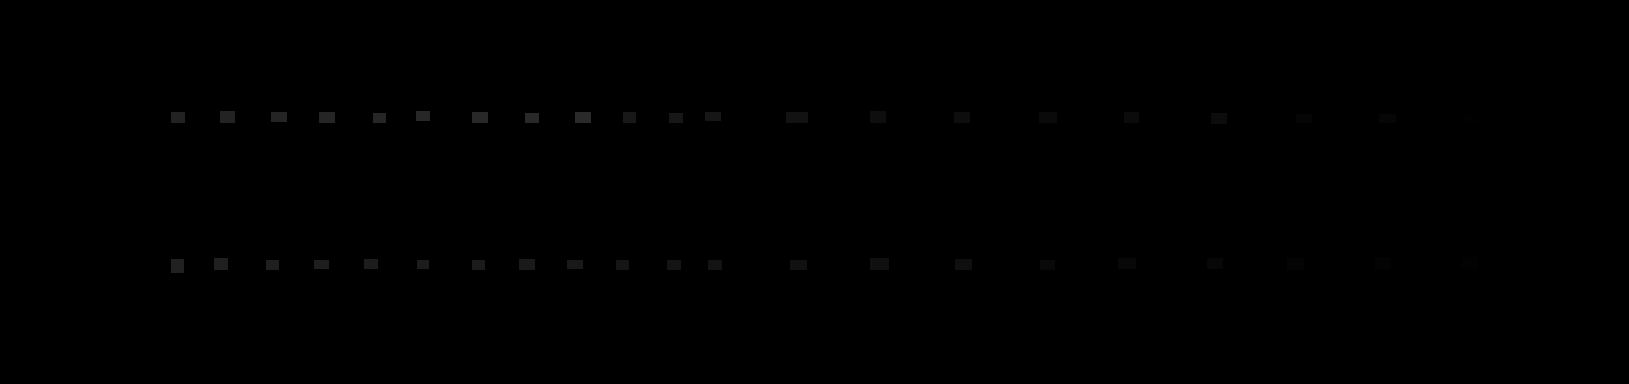light: (786, 112, 808, 124), (870, 258, 889, 270), (870, 111, 886, 124), (1461, 257, 1478, 269), (1039, 112, 1057, 124), (1287, 258, 1304, 270), (954, 112, 970, 124), (472, 112, 488, 124), (575, 112, 591, 124), (1118, 258, 1136, 269), (955, 259, 972, 270), (220, 111, 235, 124), (1376, 257, 1391, 269), (319, 112, 335, 124), (171, 259, 184, 273), (1124, 112, 1139, 124), (1379, 114, 1396, 124), (790, 260, 807, 270), (1207, 258, 1223, 269), (1211, 113, 1227, 124), (519, 259, 535, 270), (271, 112, 287, 122), (1296, 114, 1312, 124), (214, 258, 228, 270), (171, 112, 185, 124), (416, 111, 430, 121), (525, 113, 539, 124), (1463, 114, 1478, 124), (705, 112, 721, 121), (623, 112, 636, 124), (669, 113, 683, 124), (373, 113, 386, 124), (1040, 260, 1054, 270), (707, 260, 722, 270), (364, 259, 378, 269), (567, 260, 583, 269), (314, 260, 329, 269), (667, 260, 680, 270), (472, 260, 485, 270), (266, 260, 279, 270), (616, 260, 629, 270), (417, 260, 429, 269)
